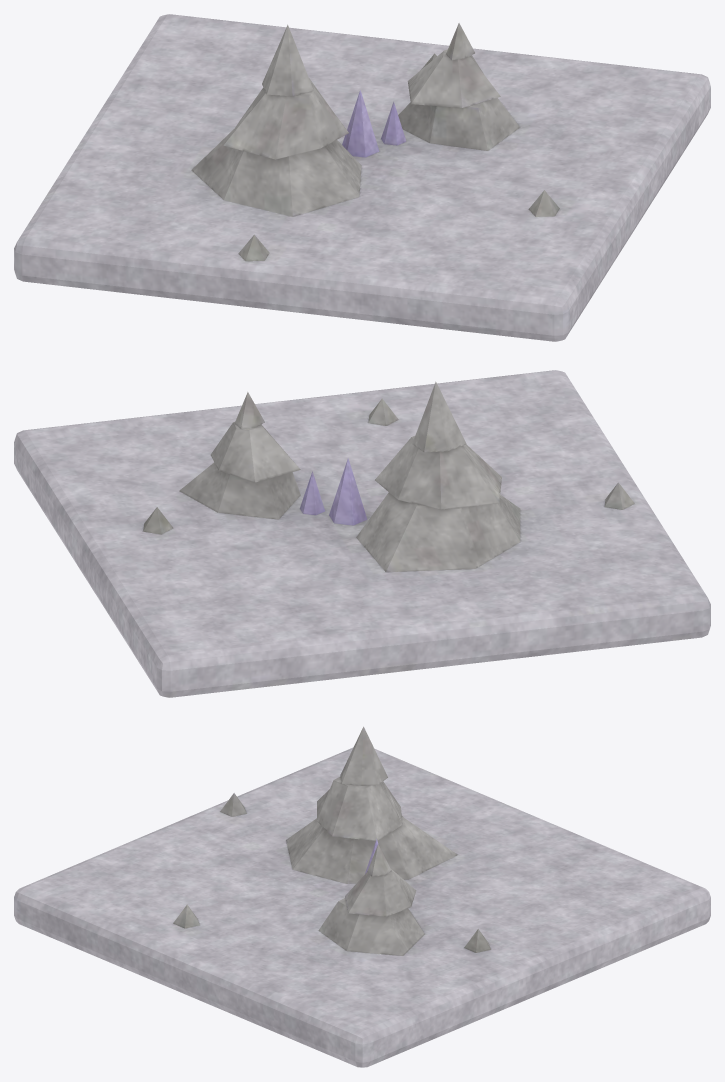
File: vhorren_hills.glb
3 renders of one model, top to bottom at view 1: azimuth 30°, elevation 25°; view 2: azimuth 150°, elevation 25°; view 3: azimuth 270°, elevation 25°, orthographic. The views are drawn at different scales.
Parts seen in each view (by area): view 1: dilek; view 2: dilek; view 3: dilek.
Part boxes in pixels (bbox=[...]): dilek: bbox=[14, 14, 710, 341]; dilek: bbox=[14, 370, 710, 697]; dilek: bbox=[14, 726, 710, 1067].
Size of the model in its own units: 2.42 by 0.64 by 2.42.
Materials: 1 (1 with a texture image).
